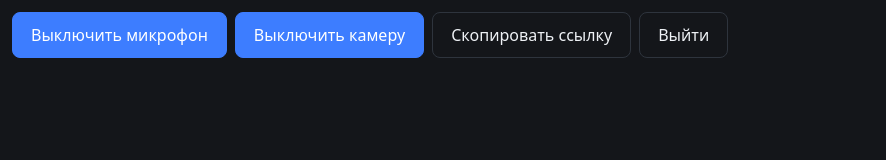
Scenario: 12 ★ Controls: копирование ссылки (ФТ-3, US-3) › ★ подтверждение появляется только ПОСЛЕ успешного копирования
The width and height of the screenshot is (886, 160).
Expected: the text "Ссылка скопирована" is not shown
Click the button "Скопировать ссылку". click: (532, 35)
box: [432,12,631,58]
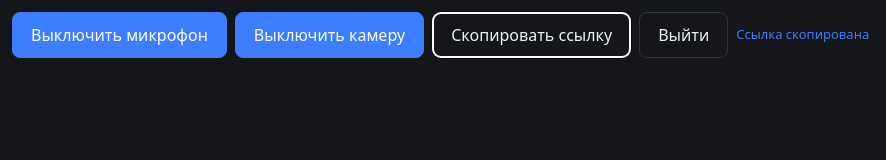
Now the text "Ссылка скопирована" is shown, box [736,25,869,45]
